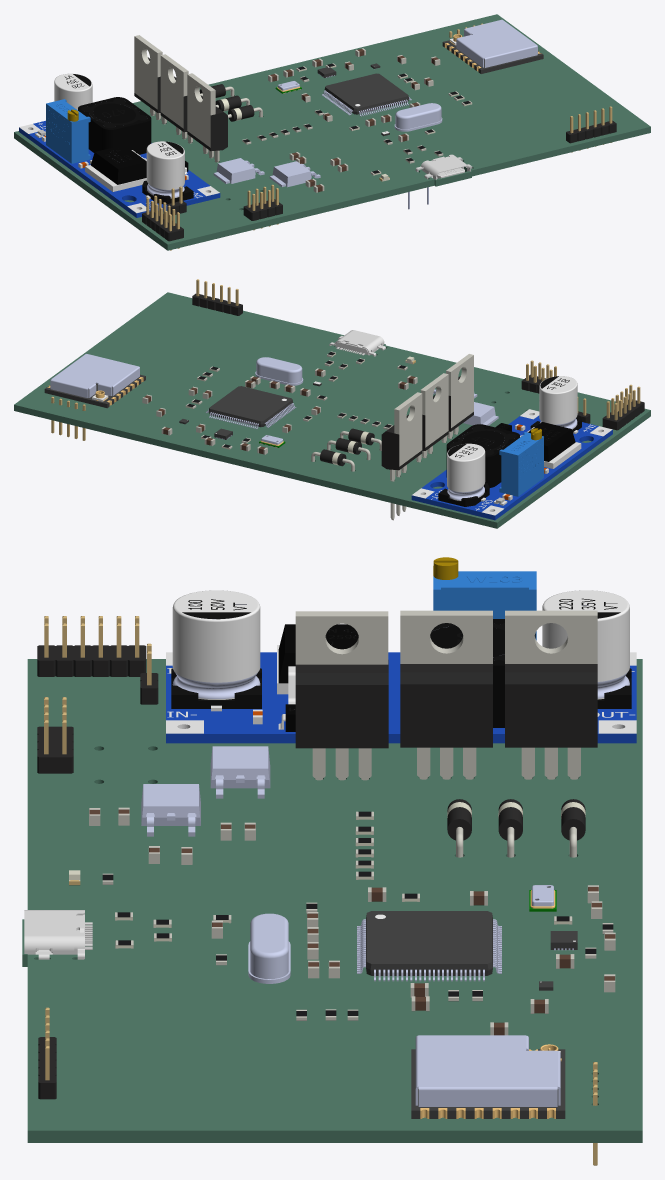
The model's file is ignis-core-pcb.glb.
3 views of the same model, one above another, from view 1: azimuth 30°, elevation 25°; view 2: azimuth 150°, elevation 25°; view 3: azimuth 270°, elevation 25° (orthographic). The views are drawn at different scales.
Visible parts, largest first — view 1: =>[0:1:1:45], =>[0:1:1:33], =>[0:1:1:7] (×3), =>[0:1:1:13], =>[0:1:1:31], =>[0:1:1:37] (×2), =>[0:1:1:29], =>[0:1:1:25], =>[0:1:1:35], =>[0:1:1:41], =>[0:1:1:39], =>[0:1:1:9] (×2); view 2: =>[0:1:1:45], =>[0:1:1:33], =>[0:1:1:7] (×3), =>[0:1:1:13], =>[0:1:1:31], =>[0:1:1:9] (×3), =>[0:1:1:29], =>[0:1:1:25], =>[0:1:1:41], =>[0:1:1:39], =>[0:1:1:35], =>[0:1:1:37] (+1 smaller); view 3: =>[0:1:1:45], =>[0:1:1:7] (×3), =>[0:1:1:33], =>[0:1:1:13], =>[0:1:1:31], =>[0:1:1:37] (×2), =>[0:1:1:29], =>[0:1:1:9] (×3), =>[0:1:1:39], =>[0:1:1:25], =>[0:1:1:35], =>[0:1:1:41].
Part boxes in pixels (x1=…): =>[0:1:1:45]: x1=14, y1=14, x2=650, y2=250; =>[0:1:1:33]: x1=19, y1=73, x2=220, y2=217; =>[0:1:1:7] (×3): x1=134, y1=35, x2=227, y2=162; =>[0:1:1:13]: x1=442, y1=19, x2=543, y2=73; =>[0:1:1:31]: x1=322, y1=73, x2=411, y2=116; =>[0:1:1:37] (×2): x1=213, y1=158, x2=320, y2=187; =>[0:1:1:29]: x1=142, y1=195, x2=183, y2=250; =>[0:1:1:25]: x1=394, y1=103, x2=442, y2=209; =>[0:1:1:35]: x1=243, y1=184, x2=282, y2=230; =>[0:1:1:41]: x1=566, y1=106, x2=616, y2=152; =>[0:1:1:39]: x1=415, y1=154, x2=472, y2=179; =>[0:1:1:9] (×2): x1=215, y1=95, x2=262, y2=121; =>[0:1:1:45]: x1=14, y1=292, x2=650, y2=528; =>[0:1:1:33]: x1=411, y1=376, x2=612, y2=520; =>[0:1:1:7] (×3): x1=381, y1=354, x2=473, y2=520; =>[0:1:1:13]: x1=44, y1=354, x2=145, y2=408; =>[0:1:1:31]: x1=205, y1=386, x2=296, y2=429; =>[0:1:1:9] (×3): x1=311, y1=428, x2=381, y2=471; =>[0:1:1:29]: x1=602, y1=384, x2=644, y2=430; =>[0:1:1:25]: x1=255, y1=357, x2=303, y2=385; =>[0:1:1:41]: x1=192, y1=279, x2=242, y2=315; =>[0:1:1:39]: x1=329, y1=330, x2=385, y2=356; =>[0:1:1:35]: x1=521, y1=360, x2=556, y2=393; =>[0:1:1:37]: x1=463, y1=402, x2=498, y2=425; =>[0:1:1:45]: x1=27, y1=659, x2=642, y2=1142; =>[0:1:1:7] (×3): x1=295, y1=610, x2=597, y2=780; =>[0:1:1:33]: x1=166, y1=557, x2=636, y2=743; =>[0:1:1:13]: x1=411, y1=1035, x2=565, y2=1118; =>[0:1:1:31]: x1=357, y1=911, x2=501, y2=981; =>[0:1:1:37] (×2): x1=141, y1=746, x2=270, y2=836; =>[0:1:1:29]: x1=37, y1=616, x2=146, y2=676; =>[0:1:1:9] (×3): x1=447, y1=799, x2=585, y2=857; =>[0:1:1:39]: x1=24, y1=910, x2=92, y2=959; =>[0:1:1:25]: x1=248, y1=913, x2=290, y2=983; =>[0:1:1:35]: x1=37, y1=697, x2=73, y2=773; =>[0:1:1:41]: x1=38, y1=1007, x2=56, y2=1099.
Size of the model in its own units: 0.1232 by 0.0389 by 0.0684.
